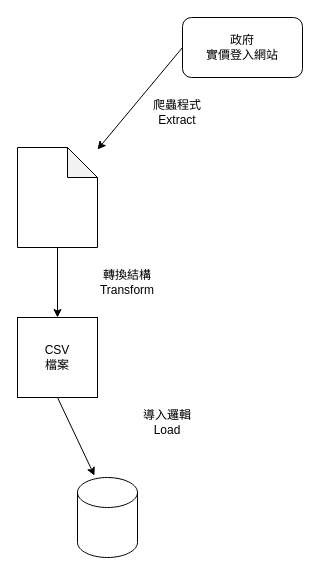
Some shapes in this 320 by 575 pixel diagram are drawn without their labels. The box of each missing label's shape, as (x1, y1, x2, y2) in pixels:
JSON 檔案: (16, 146, 98, 248)
資料庫: (76, 476, 138, 558)
